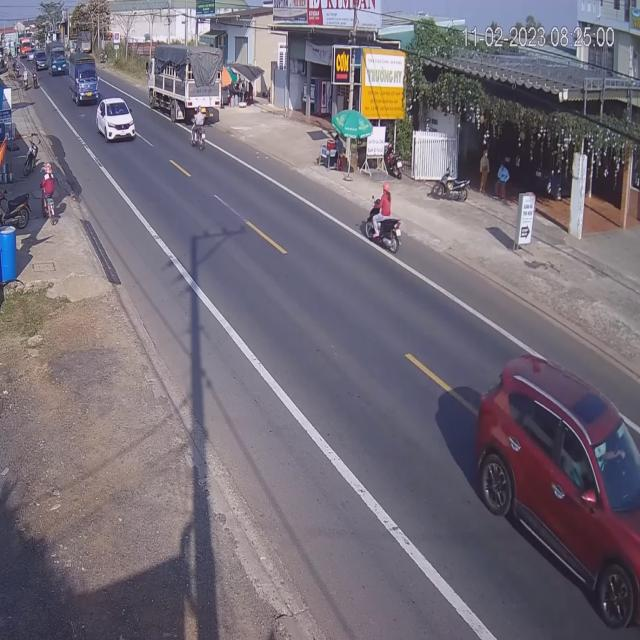car: (474, 352, 640, 626), (95, 98, 136, 142), (33, 49, 47, 74)
motorbike: (360, 182, 400, 254), (188, 112, 206, 149)
truck: (150, 44, 225, 126), (70, 53, 98, 108), (49, 44, 67, 74)
